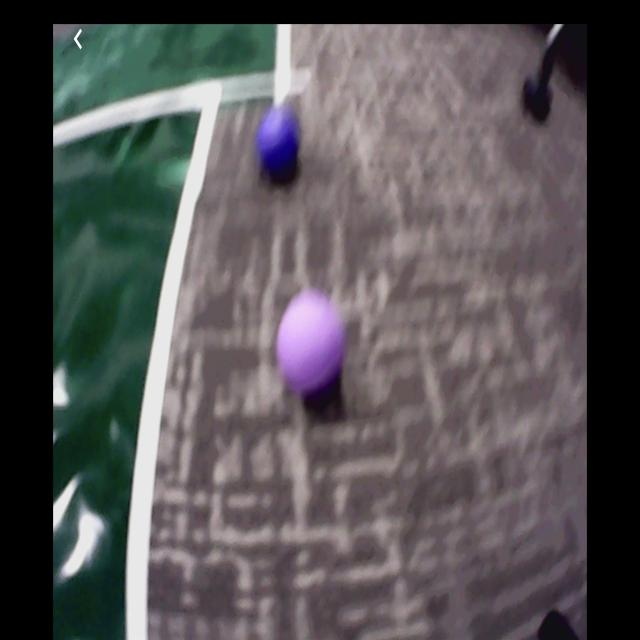ball: (280, 291, 344, 390), (260, 112, 299, 168)
